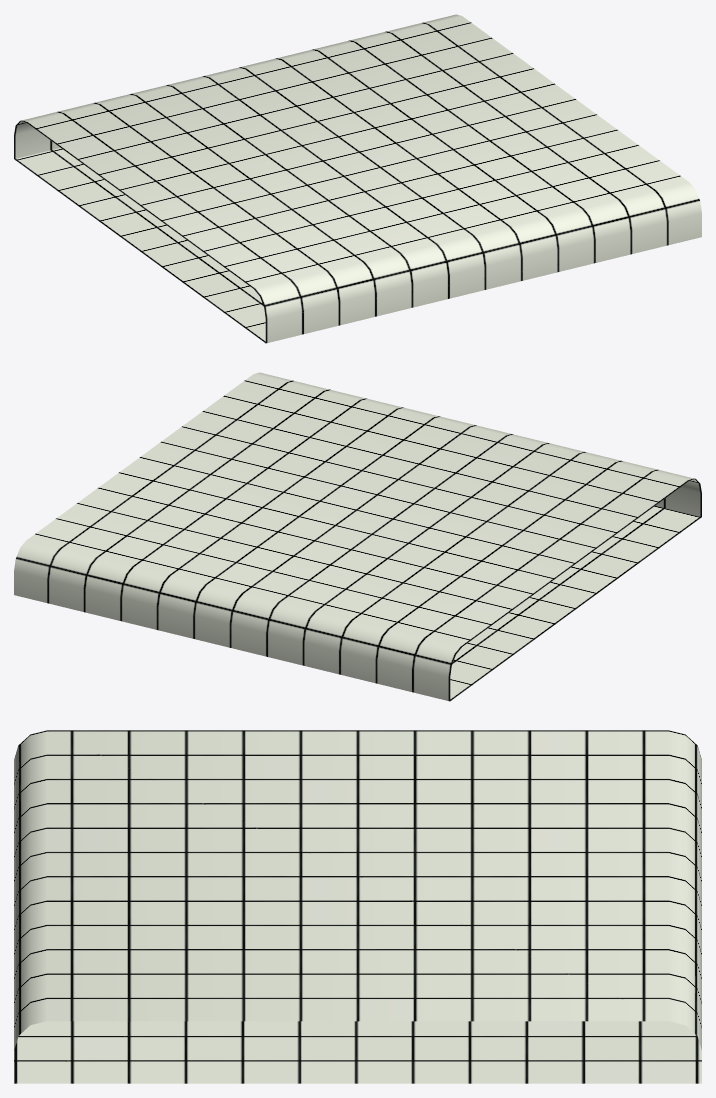
File: Bridge_center.fbx
The picture shows the model from 3 angles, top to bottom: view 1: azimuth 30°, elevation 25°; view 2: azimuth 150°, elevation 25°; view 3: azimuth 270°, elevation 25°; orthographic projection. The views are drawn at different scales.
Visible parts, largest first — view 1: Bridge_center; view 2: Bridge_center; view 3: Bridge_center.
Boxes of the visible parts, x1=… form: Bridge_center: x1=14, y1=14, x2=701, y2=343; Bridge_center: x1=14, y1=372, x2=701, y2=701; Bridge_center: x1=14, y1=730, x2=701, y2=1083.
Size of the model in its own units: 200 by 20 by 200.
